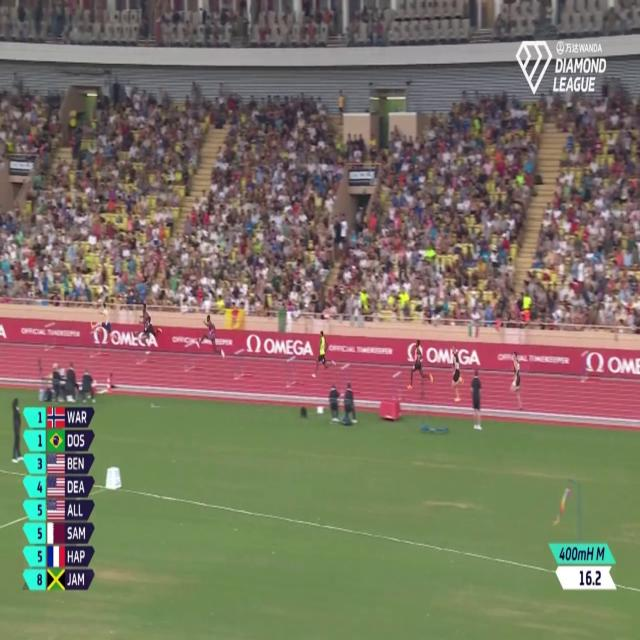athlete: (405, 332, 433, 397), (193, 313, 224, 364), (310, 321, 334, 385), (139, 294, 162, 356), (447, 345, 468, 405), (505, 345, 524, 411), (88, 302, 115, 347)
hurdle: (331, 355, 353, 397), (229, 342, 248, 384), (83, 323, 104, 358), (282, 353, 299, 396), (132, 328, 150, 365), (43, 316, 60, 354), (386, 368, 405, 400), (183, 336, 197, 379)
